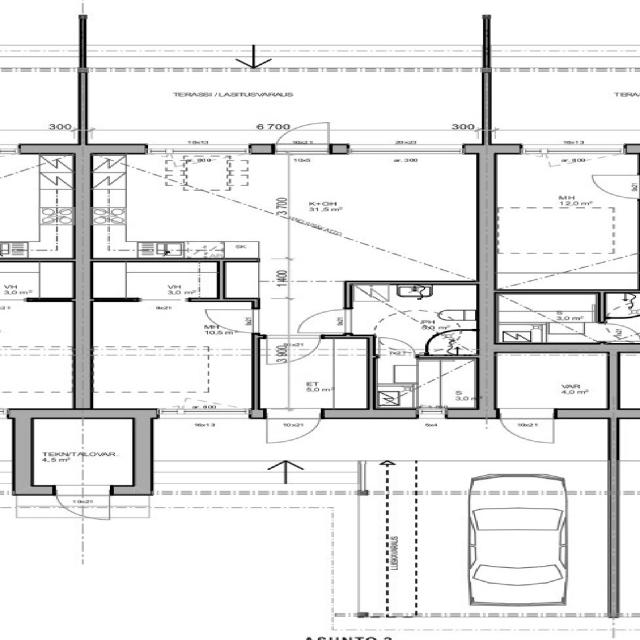door: (494, 410, 558, 446), (262, 409, 324, 445), (270, 121, 334, 154), (585, 171, 640, 200), (296, 308, 354, 335), (202, 307, 260, 334), (269, 336, 320, 364), (55, 496, 106, 519), (373, 336, 416, 357), (229, 53, 260, 68)
window: (510, 142, 632, 159), (344, 142, 468, 157), (142, 144, 253, 157), (158, 407, 251, 420), (133, 296, 192, 304), (412, 406, 448, 419), (1, 144, 23, 156)
zone: (291, 152, 483, 280), (89, 152, 288, 259), (488, 150, 639, 290), (256, 336, 373, 412), (346, 284, 479, 348), (0, 152, 73, 258), (29, 417, 132, 489), (493, 352, 612, 411), (1, 65, 81, 147), (374, 357, 479, 411), (89, 262, 223, 299), (495, 293, 596, 341), (0, 261, 73, 300), (423, 328, 477, 356), (616, 352, 640, 410), (30, 226, 72, 259), (600, 292, 640, 318)
